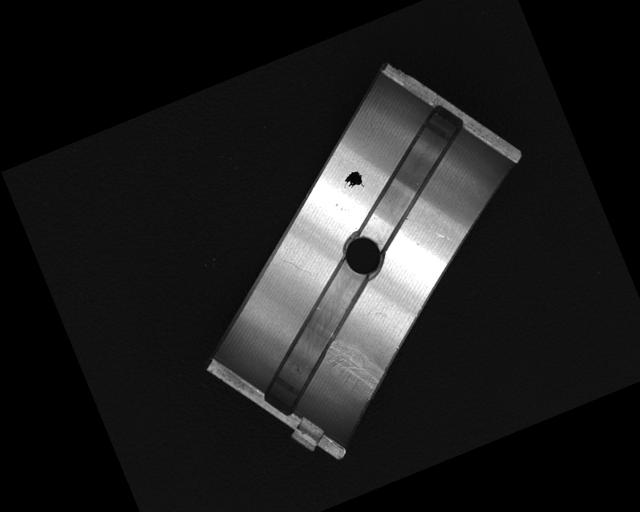blot: (338, 168, 368, 196)
gap: (231, 253, 401, 415), (329, 100, 492, 248)
hole: (339, 229, 388, 281)
nick: (405, 203, 451, 252), (281, 248, 312, 284)
scratch: (320, 328, 390, 407)
